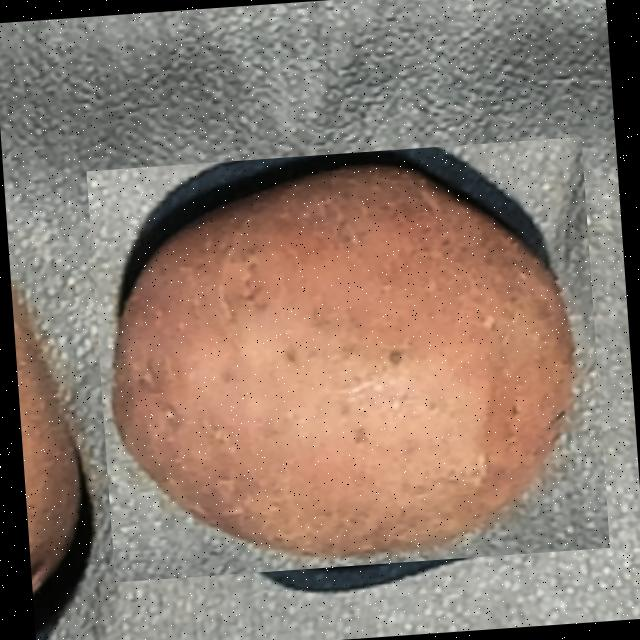Diseased-fungal potato: (84, 135, 608, 581)
